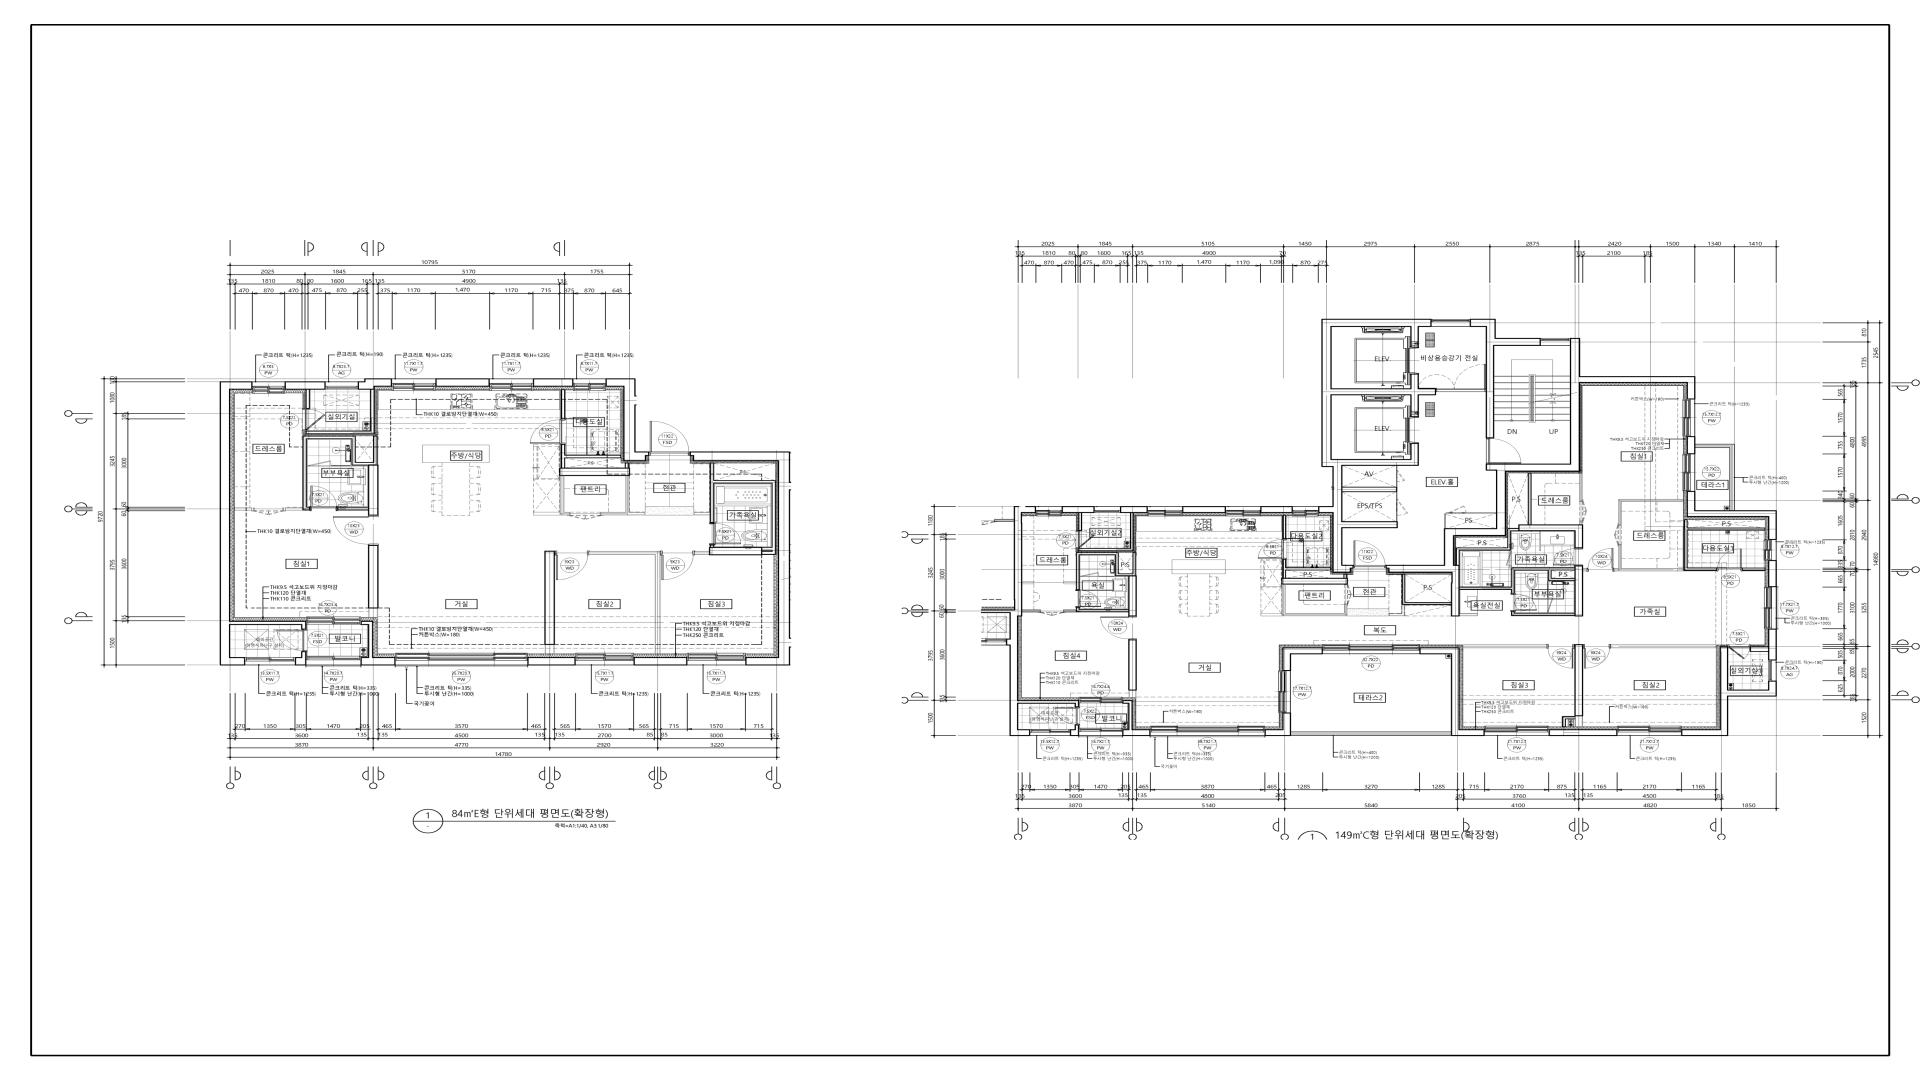door: (649, 421, 690, 456), (1436, 364, 1486, 392), (334, 516, 378, 545), (661, 551, 695, 580), (555, 551, 589, 580), (1486, 438, 1522, 464), (1353, 541, 1386, 568), (530, 419, 566, 444), (1100, 616, 1137, 640), (310, 485, 338, 512), (709, 522, 741, 545), (276, 629, 307, 651), (1547, 645, 1575, 669), (1584, 645, 1611, 669), (1258, 539, 1287, 559), (1717, 549, 1742, 571), (1553, 547, 1582, 566), (302, 409, 326, 431), (1075, 589, 1101, 608), (1055, 707, 1080, 725), (1511, 593, 1536, 612), (1729, 645, 1751, 659), (1076, 531, 1095, 549), (252, 508, 286, 516), (570, 512, 601, 520), (1396, 498, 1408, 516), (1344, 584, 1352, 605), (1040, 609, 1064, 616), (307, 460, 331, 467), (1614, 525, 1622, 545), (1449, 505, 1466, 513), (1580, 501, 1586, 521), (1396, 469, 1406, 483), (1547, 597, 1553, 612), (1506, 553, 1511, 566), (1081, 572, 1098, 576)
wall: (1386, 338, 1696, 617), (1319, 319, 1436, 572), (218, 381, 306, 666), (690, 451, 790, 666), (1009, 506, 1079, 736), (1456, 473, 1584, 564), (1681, 646, 1778, 736), (1470, 319, 1540, 438), (534, 444, 645, 516), (1614, 520, 1766, 571), (694, 463, 775, 555), (589, 551, 661, 654), (286, 436, 378, 516), (1460, 566, 1584, 617), (1420, 647, 1485, 736), (1261, 559, 1348, 616), (1064, 553, 1137, 616), (1687, 492, 1778, 539), (605, 378, 649, 462), (306, 390, 375, 434), (1389, 574, 1451, 616), (1079, 513, 1134, 551), (1561, 645, 1584, 728), (1619, 500, 1684, 525), (360, 621, 396, 666), (545, 551, 555, 654), (1122, 700, 1150, 736), (1282, 647, 1323, 671), (368, 545, 378, 617), (1265, 713, 1291, 736), (634, 657, 687, 666), (1129, 640, 1137, 698), (527, 657, 576, 666), (1549, 729, 1617, 736), (435, 378, 491, 386), (1610, 645, 1717, 649), (357, 378, 392, 390), (285, 381, 326, 390), (1464, 645, 1547, 649), (533, 378, 574, 386), (1768, 629, 1778, 661), (1183, 506, 1225, 513), (1768, 560, 1778, 587), (1062, 506, 1095, 513), (1261, 506, 1292, 513), (1121, 506, 1147, 513), (560, 389, 566, 419), (1687, 436, 1696, 454), (295, 651, 306, 666), (1751, 646, 1768, 653), (1069, 725, 1079, 736), (1282, 516, 1286, 539), (1444, 513, 1449, 529), (1580, 473, 1582, 501), (1079, 513, 1083, 531), (306, 390, 310, 409), (228, 508, 252, 510), (1742, 568, 1766, 571), (1460, 613, 1478, 616), (1022, 609, 1040, 612), (331, 465, 351, 467), (1396, 492, 1398, 498), (1396, 516, 1398, 521), (1396, 465, 1398, 469), (1396, 483, 1398, 487), (1547, 612, 1548, 613), (1511, 551, 1511, 553), (1511, 566, 1511, 567), (1548, 582, 1548, 597), (1466, 513, 1497, 513), (1080, 576, 1081, 576), (1098, 576, 1114, 576)
window: (1696, 444, 1735, 510), (396, 653, 527, 667), (1150, 727, 1265, 737), (1323, 645, 1420, 654), (687, 653, 745, 666), (576, 653, 633, 666), (306, 655, 360, 667), (1291, 732, 1451, 736), (1764, 587, 1779, 629), (1617, 727, 1681, 736), (1485, 727, 1549, 736), (392, 378, 435, 392), (491, 378, 533, 392), (1278, 671, 1291, 713), (1683, 454, 1696, 492), (1683, 400, 1696, 436), (245, 657, 295, 666), (306, 617, 360, 625), (574, 378, 605, 392), (253, 381, 285, 394), (1079, 728, 1122, 737), (1225, 506, 1261, 517), (1147, 506, 1183, 517), (1431, 319, 1470, 327), (1292, 506, 1319, 517), (1035, 506, 1062, 517), (1030, 729, 1069, 736), (326, 381, 357, 389), (1764, 539, 1776, 560), (1540, 338, 1571, 345), (1079, 698, 1122, 703), (1095, 506, 1121, 513), (1768, 661, 1776, 680)
